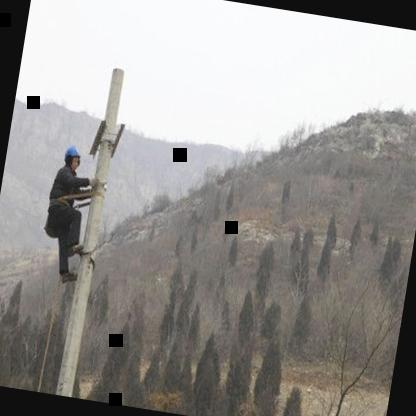helmet: (59, 141, 85, 175)
